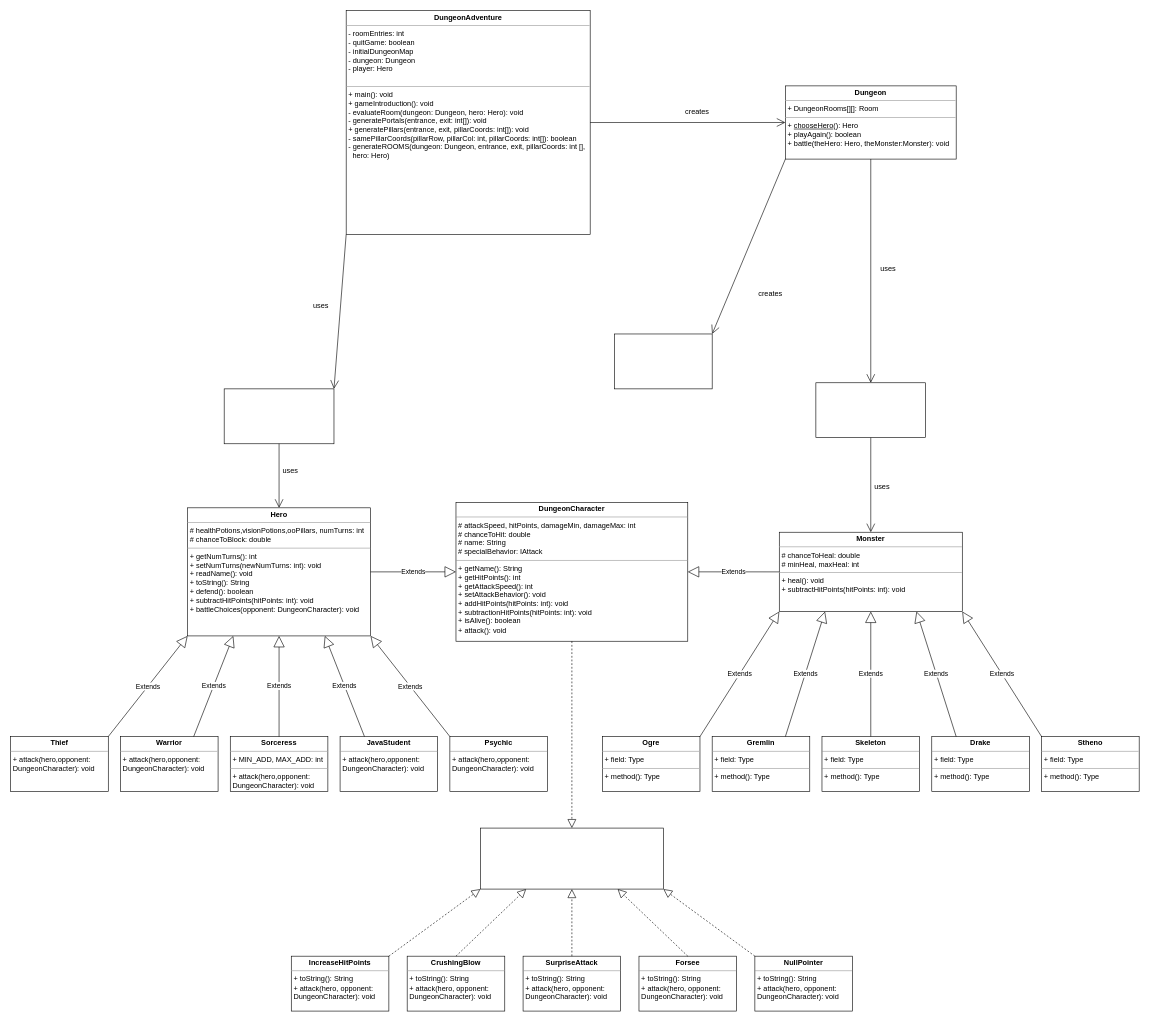
Image size: 1150x1022. Some labels were removed from this diagram. Each missing label, with the centre of its shape:
"<<interface>> IAttack + attack(hero, opponenet: DungeonCharacter): void" belongs at (571,858).
"HeroFactory + attfac: AttackFactory + createHero (choice: int): Hero" belongs at (279,416).
"MonsterFactory + g enerateMonster (): Monster" belongs at (870,410).
"Room + field: Type + method(): Type" belongs at (663,361).
